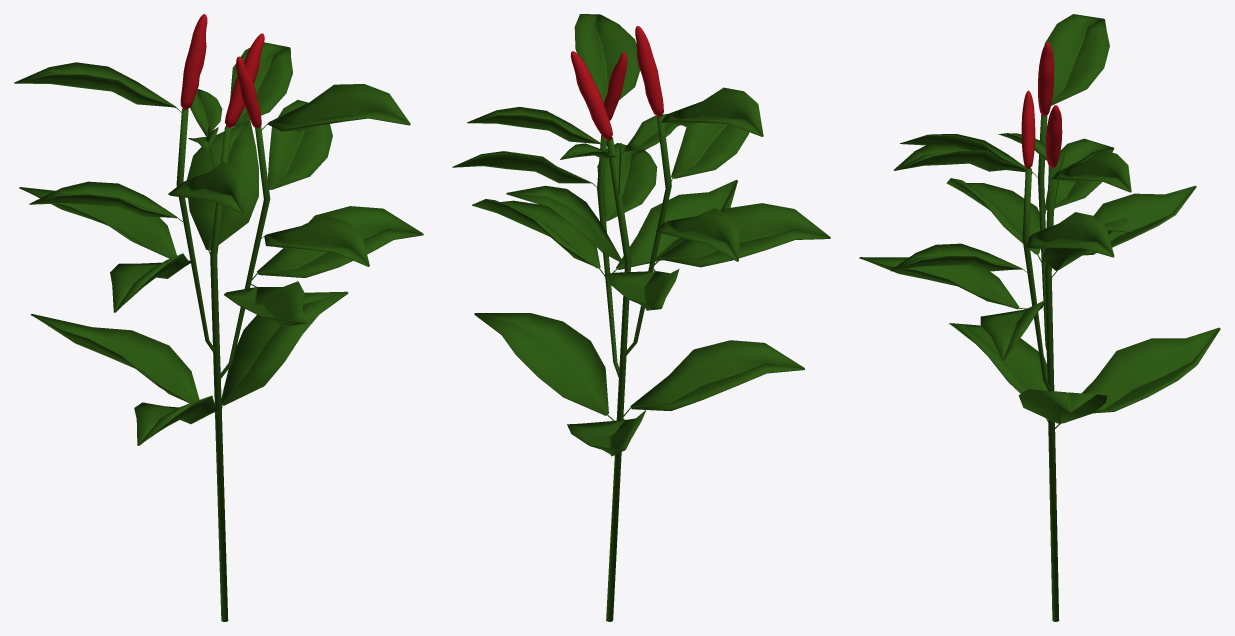
File: PimentaMadura.fbx
3 renders of one model, left to right at view 1: azimuth 30°, elevation 25°; view 2: azimuth 150°, elevation 25°; view 3: azimuth 270°, elevation 25°, orthographic. The views are drawn at different scales.
Visible parts, largest first — view 1: PimentaMadura; view 2: PimentaMadura; view 3: PimentaMadura.
Part boxes in pixels (x1,y1,x2,y2): PimentaMadura: [14, 14, 423, 621]; PimentaMadura: [452, 14, 830, 621]; PimentaMadura: [859, 14, 1220, 621].
Size of the model in its own units: 16.19 by 26.88 by 15.52.
